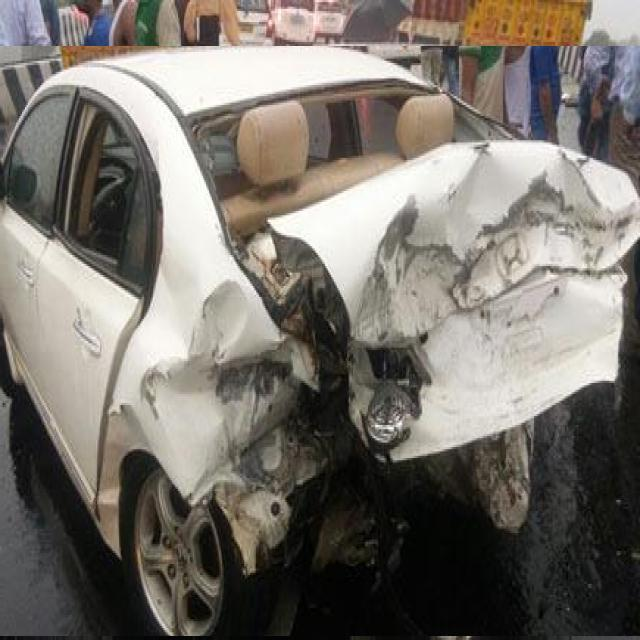accident: (0, 47, 640, 636)
